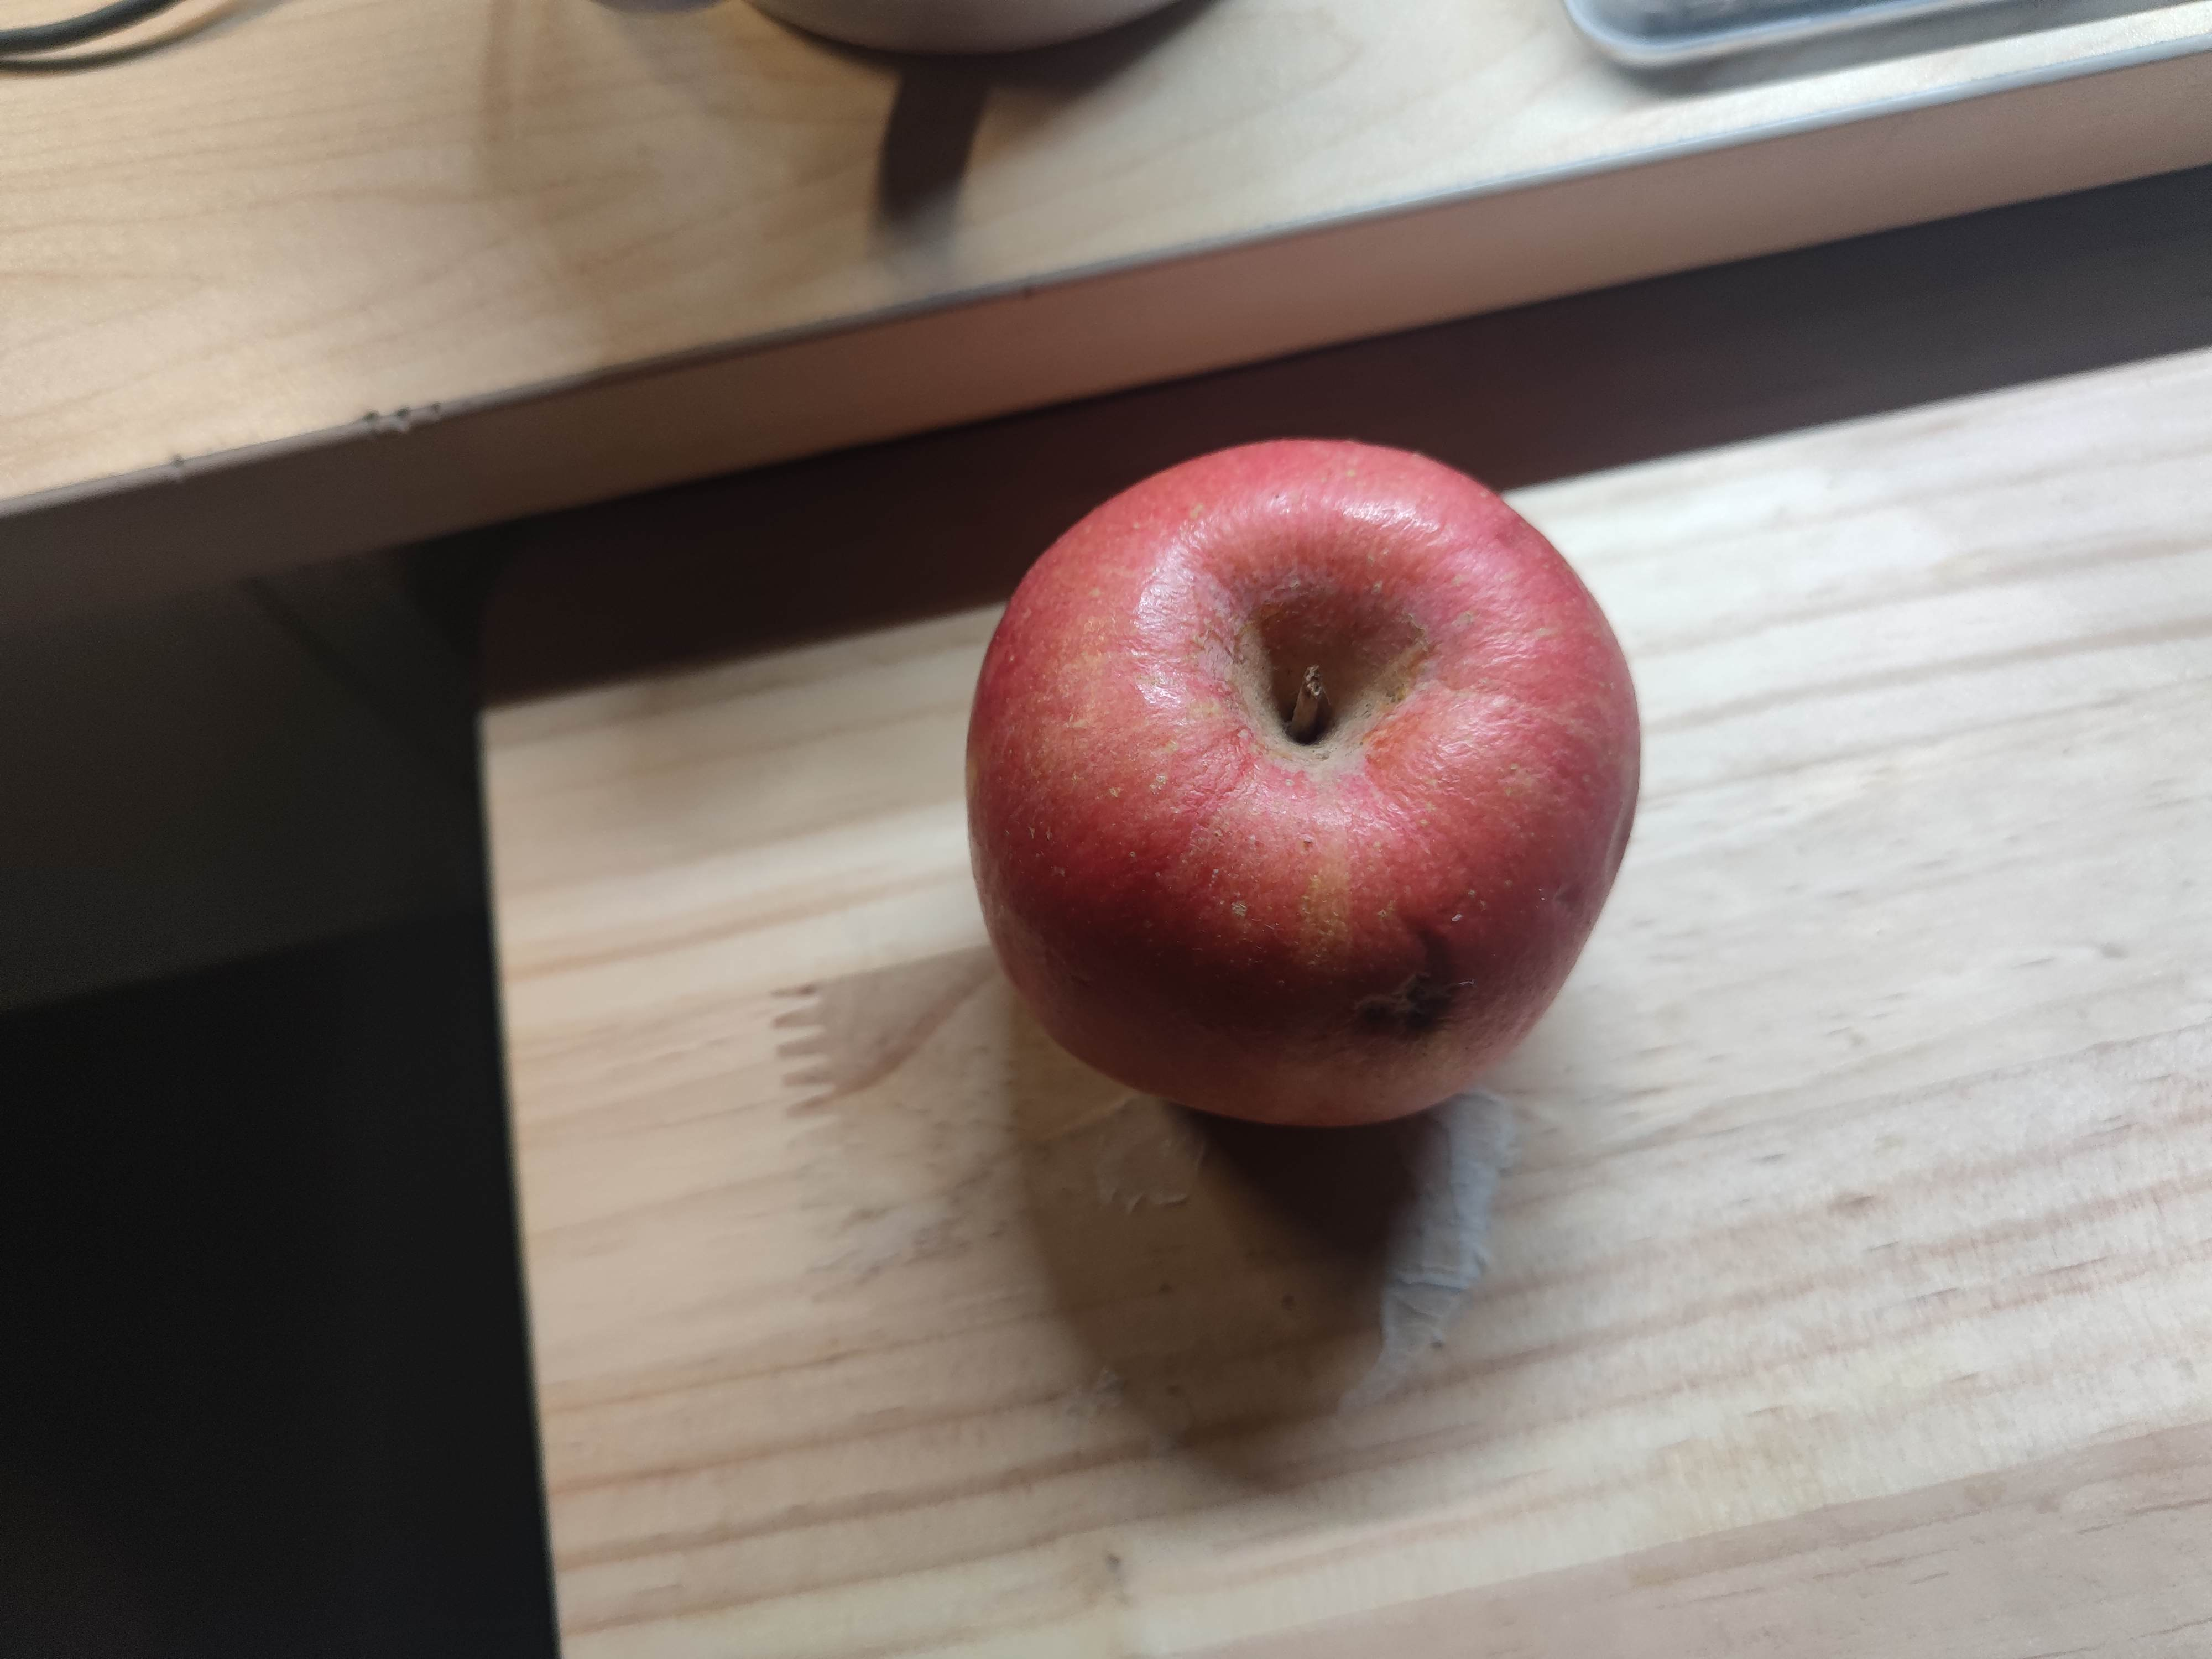apple: (967, 430, 1646, 1134)
